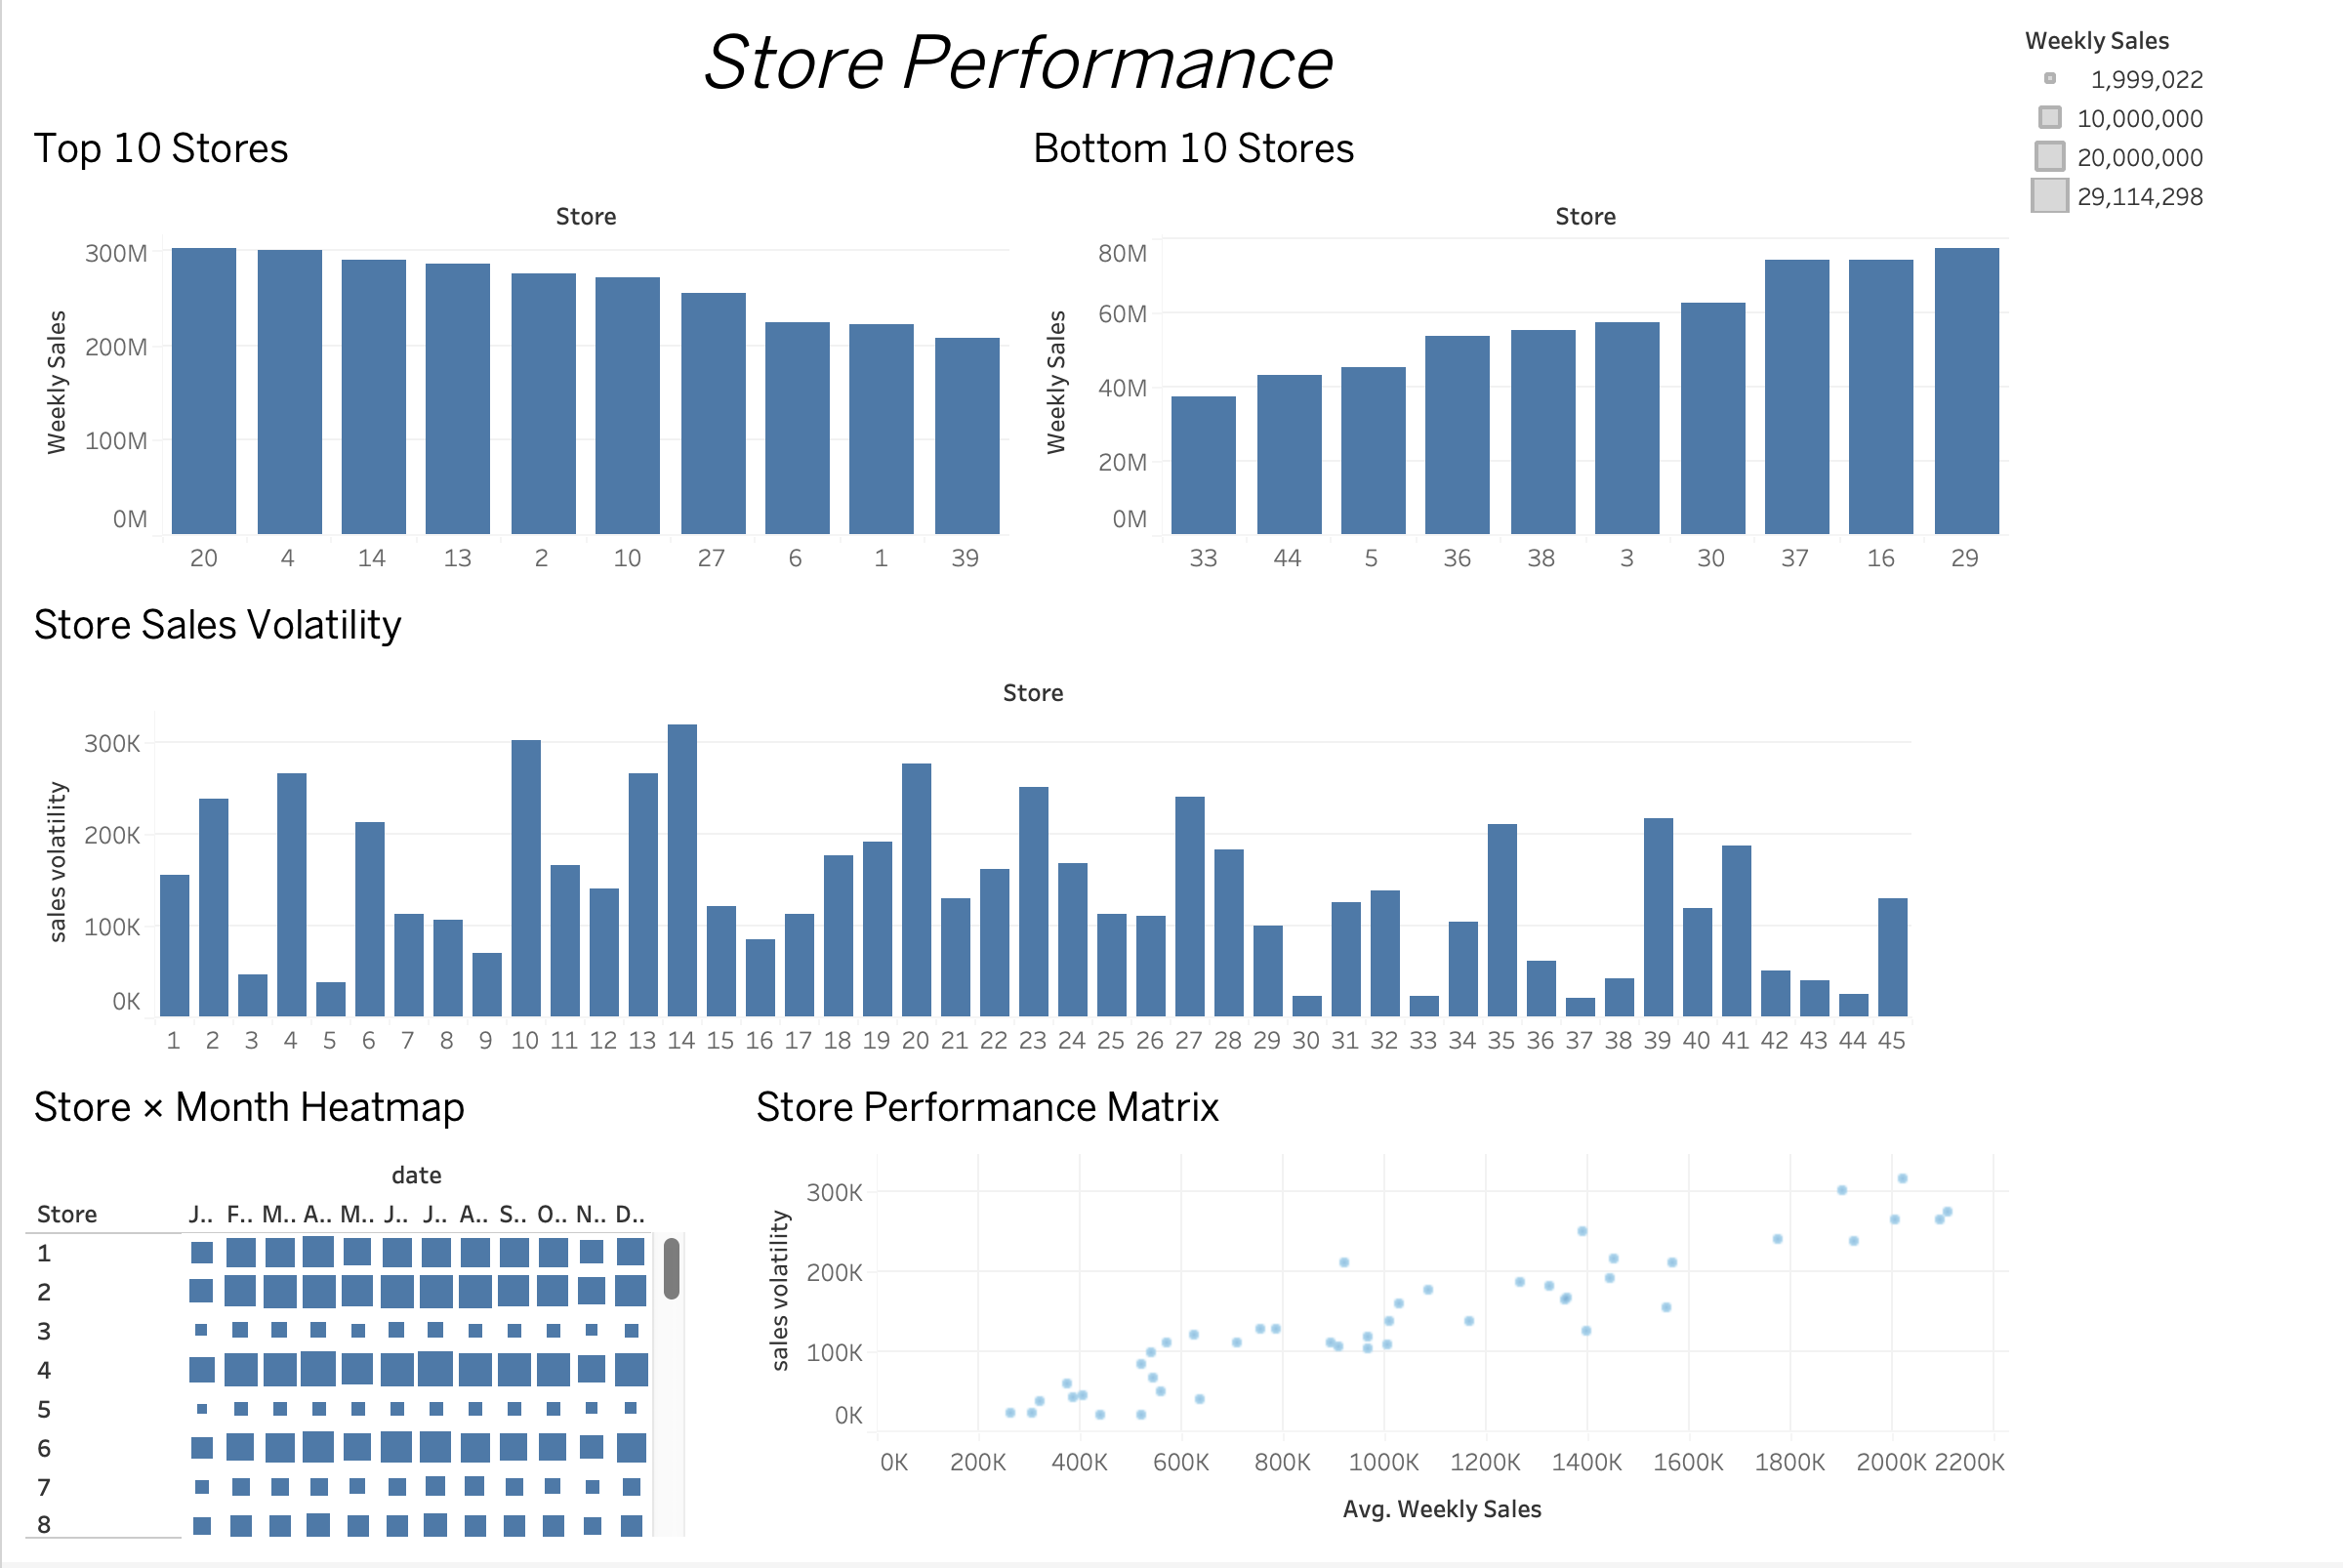

What the dashboard file says about the page in this screenshot:
{"tool":"tableau","page":{"name":"Store Performance","canvas":[1200,800],"ordinal":2},"visuals":[{"type":"text","box":[8,8,1024,47]},{"type":"legend","title":"Sheet 9","param":"[federated.1qfpxi31lekzp719szb8o0xcnmi6].[sum:Weekly_Sales:qk]","box":[1032,8,160,106]},{"type":"worksheet","title":"Sheet 7","mark":"Bar","rows":["Weekly_Sales"],"cols":["Store"],"box":[8,55,512,244]},{"type":"worksheet","title":"Sheet 8","mark":"Automatic","rows":["Weekly_Sales"],"cols":["Store"],"box":[520,55,512,244]},{"type":"legend","title":"Sheet 9","param":"[federated.1qfpxi31lekzp719szb8o0xcnmi6].[sum:Weekly_Sales:qk]","box":[1032,114,160,22]},{"type":"worksheet","title":"Sheet 10","mark":"Automatic","rows":["Calculation_0106155018940418"],"cols":["Store"],"box":[8,299,1024,246.5]},{"type":"worksheet","title":"Sheet 9","mark":"Automatic","rows":["Store"],"cols":["Calculation_0106155017875456"],"box":[8,545.5,370,246.5]},{"type":"worksheet","title":"Sheet 11","mark":"Heatmap","rows":["Calculation_0106155018940418"],"cols":["Weekly_Sales"],"box":[378,545.5,654,246.5]}]}

Visuals, with their boxes in screenshot pixels (x1, y1, x2, y2), scaled from the page's 1200x800 canvas onto the 2343x1568 screenshot:
text: bbox=(16, 16, 2015, 107)
"Sheet 9" legend: bbox=(2015, 16, 2327, 224)
"Sheet 7" worksheet (Bar marks): bbox=(16, 107, 1015, 586)
"Sheet 8" worksheet: bbox=(1015, 107, 2015, 586)
"Sheet 9" legend: bbox=(2015, 224, 2327, 267)
"Sheet 10" worksheet: bbox=(16, 586, 2015, 1069)
"Sheet 9" worksheet: bbox=(16, 1069, 738, 1552)
"Sheet 11" worksheet (Heatmap marks): bbox=(738, 1069, 2015, 1552)
